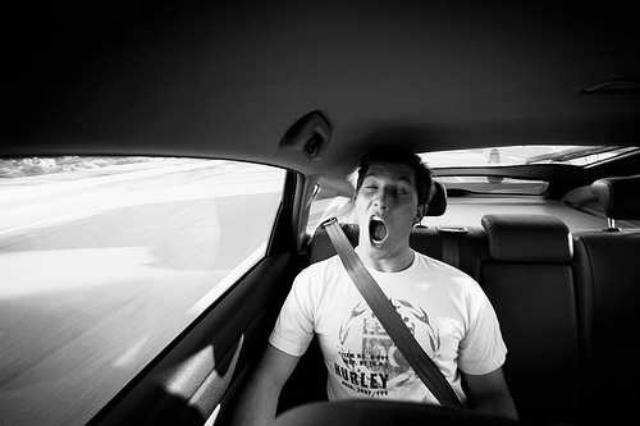Seatbelt: (319, 215, 461, 407)
